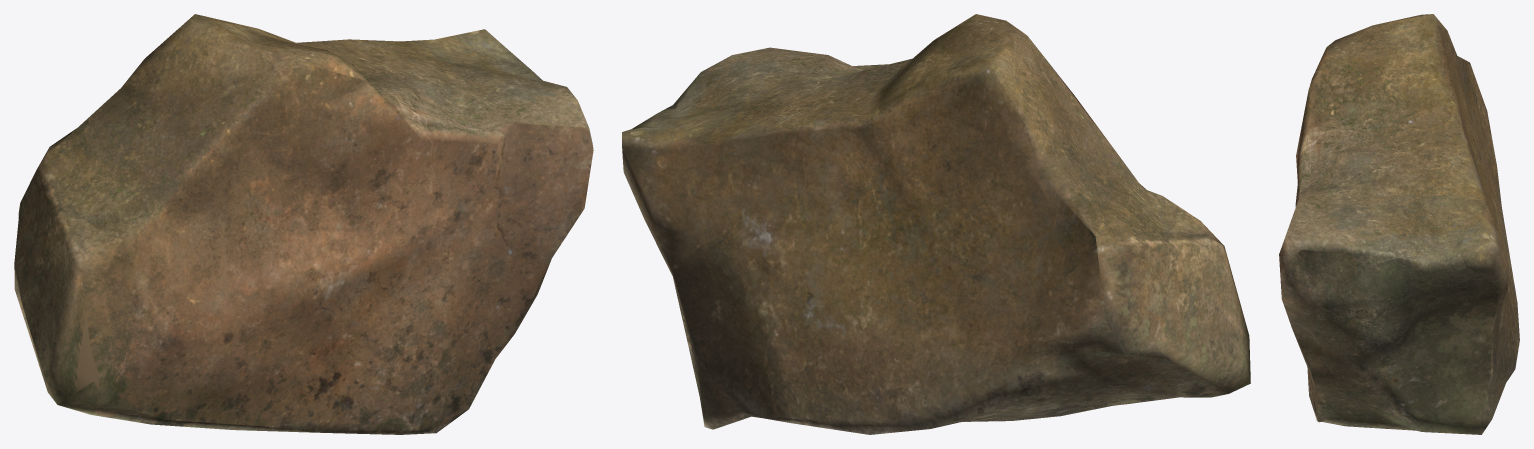
Rendered from StoneSmall.fbx.
The picture shows the model from 3 angles, left to right: view 1: azimuth 30°, elevation 25°; view 2: azimuth 150°, elevation 25°; view 3: azimuth 270°, elevation 25°; orthographic projection. The views are drawn at different scales.
Parts seen in each view (by area): view 1: LV_Common_Rock_StoneSmall08_SM_LBR; view 2: LV_Common_Rock_StoneSmall08_SM_LBR; view 3: LV_Common_Rock_StoneSmall08_SM_LBR.
Part boxes in pixels (left/top/right/bottom): LV_Common_Rock_StoneSmall08_SM_LBR: left=14, top=14, right=593, bottom=434; LV_Common_Rock_StoneSmall08_SM_LBR: left=622, top=14, right=1250, bottom=434; LV_Common_Rock_StoneSmall08_SM_LBR: left=1279, top=14, right=1519, bottom=434.
Bounding box in the file's own units: 26.03 × 19.19 × 12.32.
